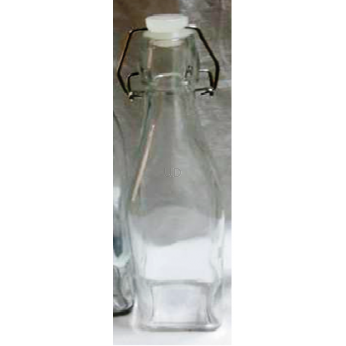glass of water: (128, 16, 224, 346)
